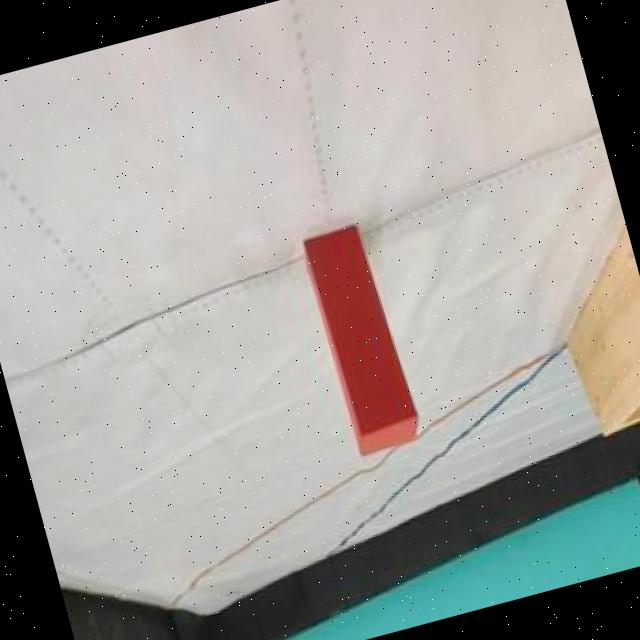redbox: (298, 220, 424, 462)
